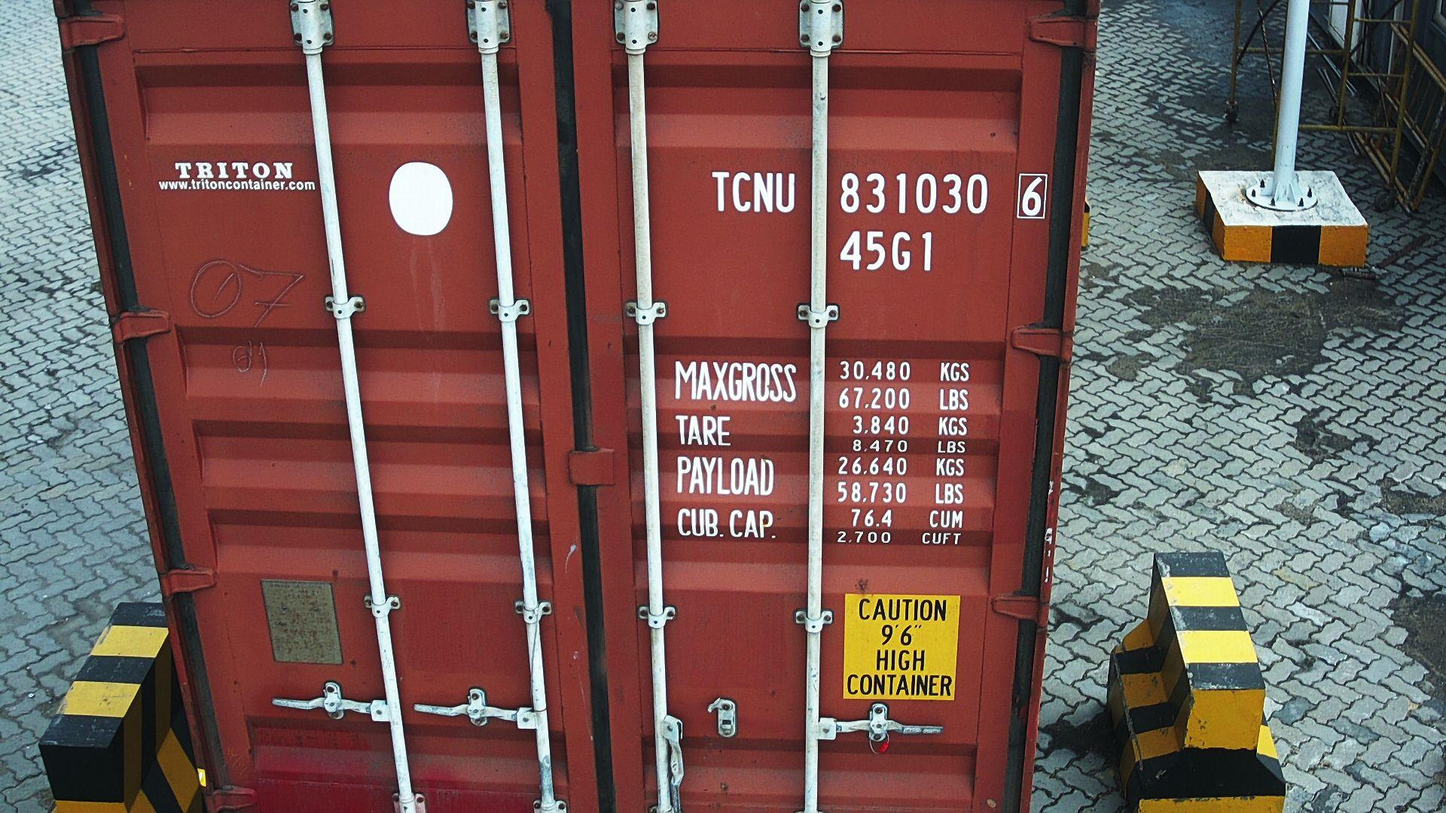container-numbers: (708, 166, 1054, 221), (835, 227, 939, 275)
